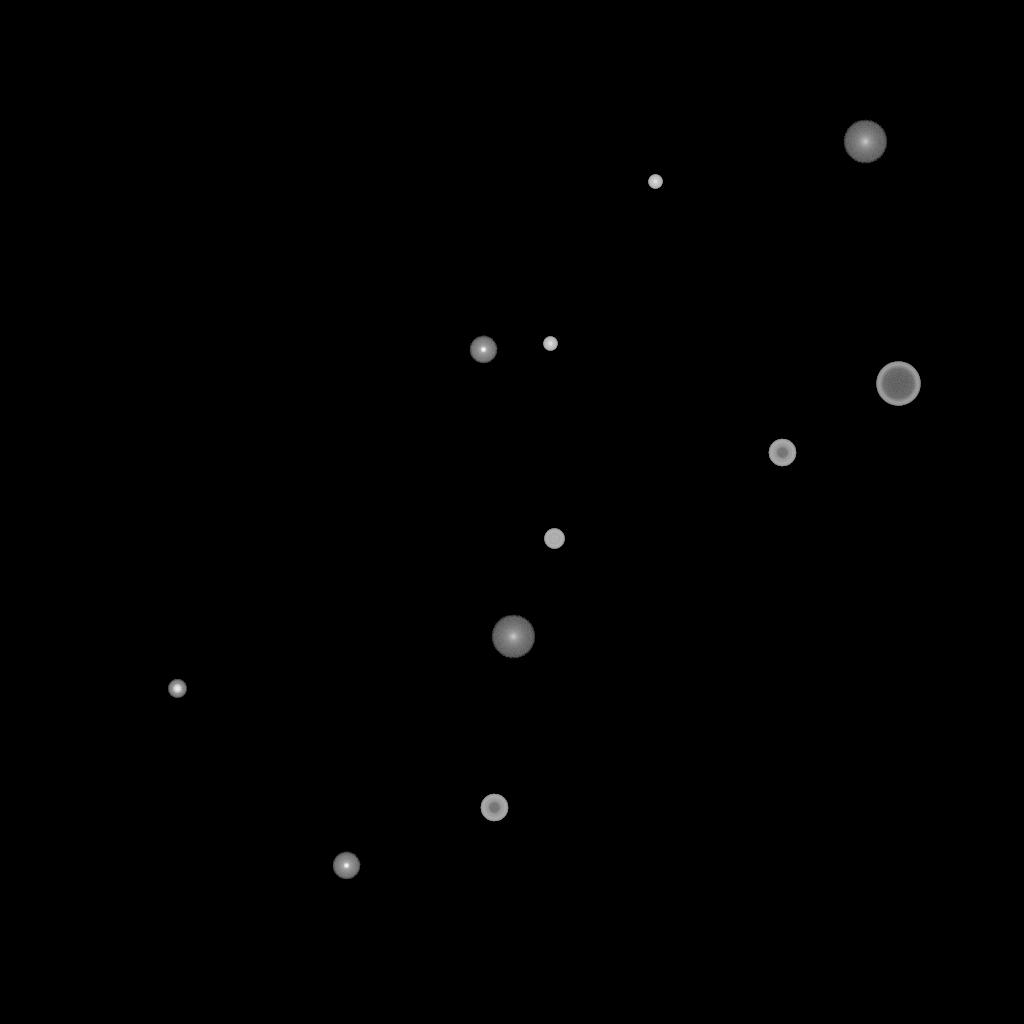depth:-10: (332, 852, 360, 880), (469, 336, 497, 364)
depth:-20: (168, 680, 186, 698)
depth:-30: (648, 175, 662, 189), (543, 337, 557, 351)
depth:-40: (544, 529, 564, 549)
depth:-50: (480, 794, 508, 822), (768, 439, 796, 467)
depth:-70: (876, 362, 920, 406)
depth:10: (843, 120, 887, 164), (491, 615, 535, 659)
